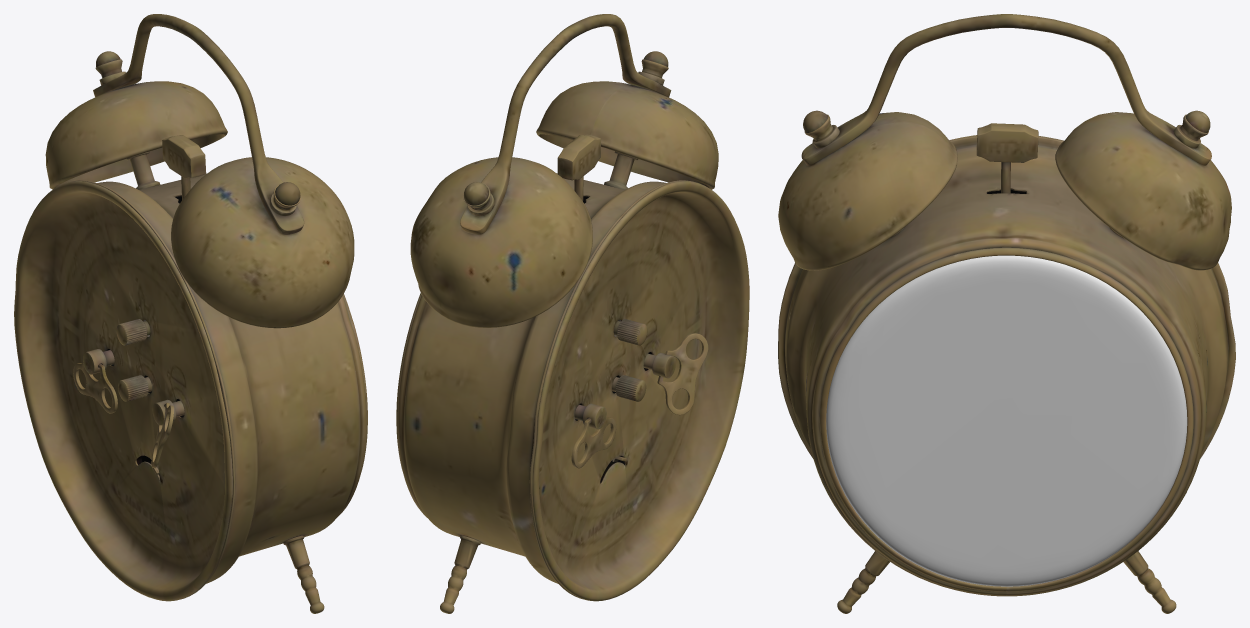
The model's file is sr_measurement_clock_alarm_a01.glb.
3 renders of one model, left to right at view 1: azimuth 30°, elevation 25°; view 2: azimuth 150°, elevation 25°; view 3: azimuth 270°, elevation 25°, orthographic. The views are drawn at different scales.
Parts seen in each view (by area): view 1: body_01_mesh_00_2; view 2: body_01_mesh_00_2; view 3: body_01_mesh_00_2, bodyGlass_01_mesh_00_1.
Part boxes in pixels (x1,y1,x2,y2): body_01_mesh_00_2: (14, 14, 367, 613); body_01_mesh_00_2: (396, 14, 749, 613); body_01_mesh_00_2: (778, 14, 1235, 613); bodyGlass_01_mesh_00_1: (826, 255, 1187, 586).
Bounding box in the file's own units: 0.1008 × 0.2943 × 0.2123.
Materials: 2 (1 with a texture image).
